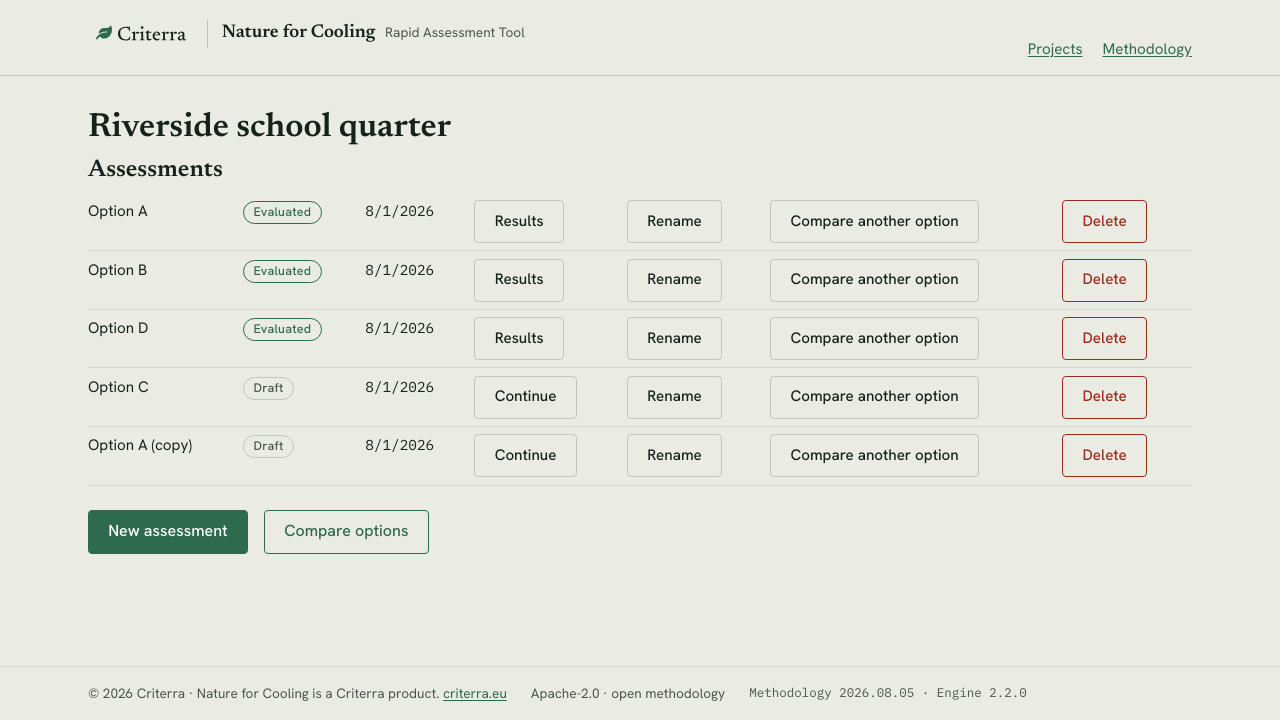
Scenario: ProjectScreen › duplicates an assessment (D-021) and opens the wizard at the intervention step
Click the 1st button "Compare another option" at x=875, y=222, box [770, 200, 979, 243]
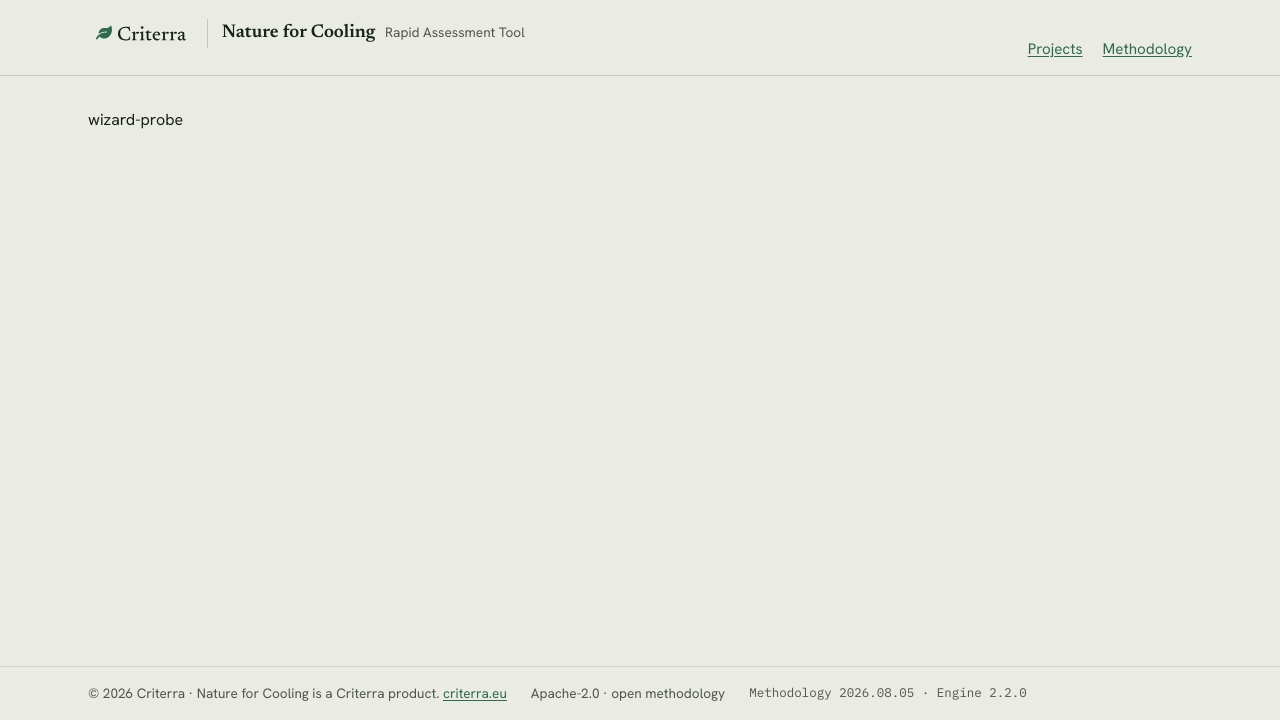
Result: the text "wizard-probe" is shown at [88, 109, 183, 130]
